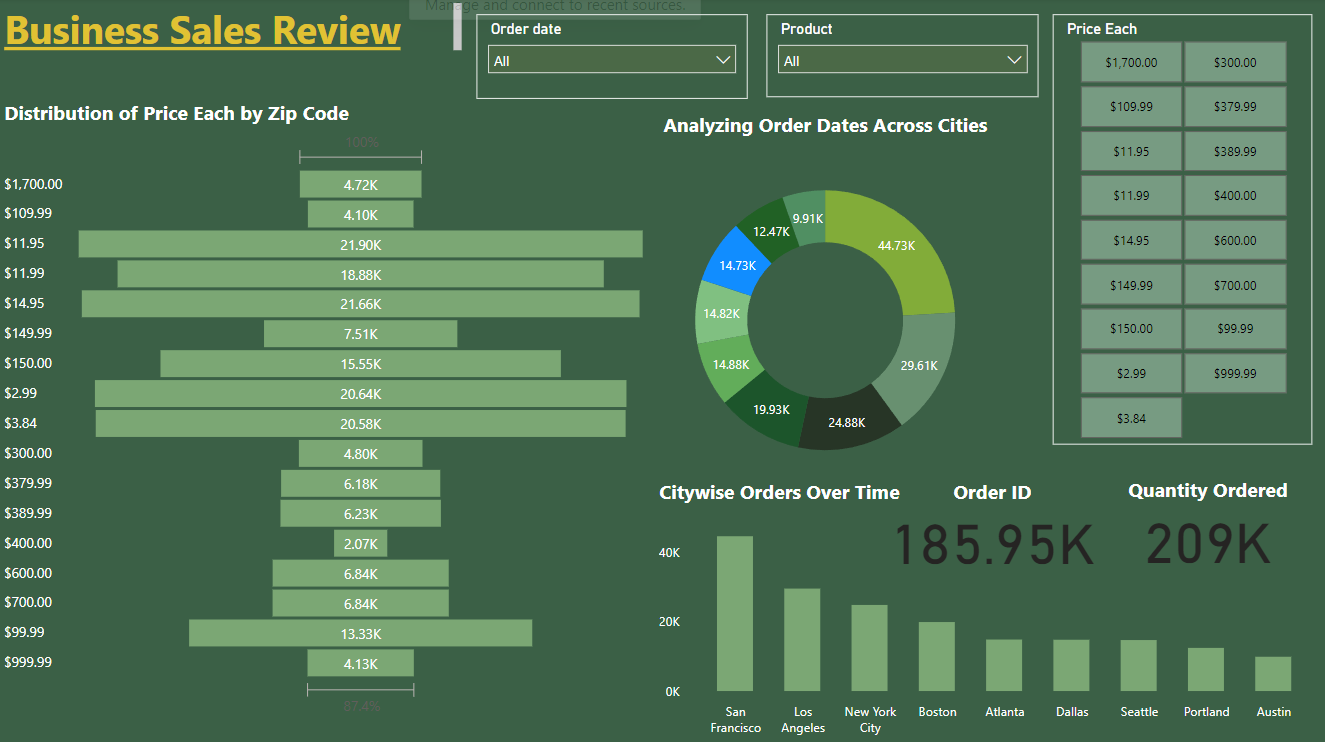

This screenshot's page, from the dashboard's own definition file:
{"tool":"powerbi","page":{"name":"Page 1","canvas":[1280,720],"ordinal":0},"visuals":[{"type":"columnChart","title":"Citywise Orders Over Time","fields":{"Category":["Sales Data.City"],"Y":["CountNonNull(Sales Data.Order date)"]},"box":[631.7,463,647.6,256.7],"z":0},{"type":"card","title":"Order ID","fields":{"Values":["CountNonNull(Sales Data.Order ID)"]},"box":[820.7,463,276.9,89.4],"z":1000},{"type":"donutChart","title":"Analyzing Order Dates Across Cities","fields":{"Category":["Sales Data.City"],"Y":["CountNonNull(Sales Data.Order date)"]},"box":[549.5,109.6,494.7,377.9],"z":2000},{"type":"slicer","fields":{"Values":["Sales Data.Order date"]},"box":[461.2,16.2,261.2,81.2],"z":3000},{"type":"slicer","fields":{"Values":["Sales Data.Price Each"]},"box":[1016.2,16.2,250,415],"z":4000},{"type":"slicer","fields":{"Values":["Sales Data.Product"]},"box":[740,16.2,262.5,80],"z":5000},{"type":"card","title":"Quantity Ordered","fields":{"Values":["Sum(Sales Data.Quantity Ordered)"]},"box":[1054.4,461.6,225,90.9],"z":6000},{"type":"funnel","title":"Distribution of Price Each by Zip Code","fields":{"Category":["Sales Data.Price Each","Sales Data.Time"],"Y":["CountNonNull(Sales Data.Pin Code)"]},"box":[0,97.5,631.2,601.2],"z":7000},{"type":"textbox","box":[0,0,451.2,57.5],"z":8000}]}

Visuals, with their boxes on the page's 1280x720 design canvas (x1, y1, x2, y2). These are canvas units, not pixel positions in the 1325x742 screenshot, which may show the page scaled, cropped or inside an application window:
"Citywise Orders Over Time" columnChart: region(632, 463, 1279, 720)
"Order ID" card: region(821, 463, 1098, 552)
"Analyzing Order Dates Across Cities" donutChart: region(550, 110, 1044, 488)
slicer - Sales Data.Order date: region(461, 16, 722, 97)
slicer - Sales Data.Price Each: region(1016, 16, 1266, 431)
slicer - Sales Data.Product: region(740, 16, 1002, 96)
"Quantity Ordered" card: region(1054, 462, 1279, 552)
"Distribution of Price Each by Zip Code" funnel: region(0, 98, 631, 699)
textbox: region(0, 0, 451, 58)
